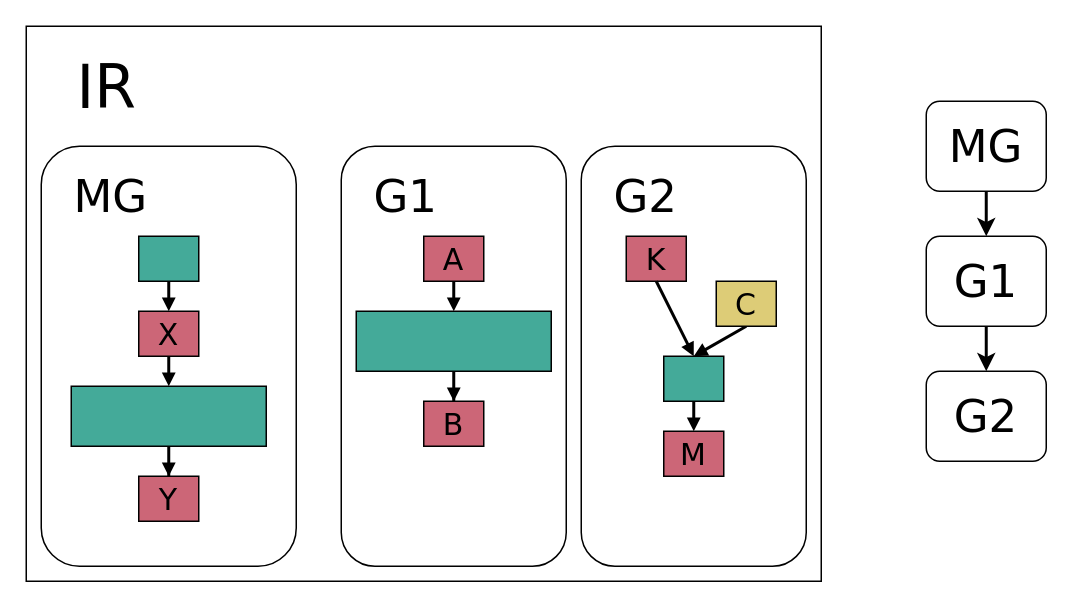
The diagram is 1073 pixels wide and 608 high, and some of its shapes have lost their labels. Each missing label, with the centre of its shape:
"Add" goes at (x=693, y=378).
"call(G1, X)" goes at (x=168, y=415).
"call(G2, A)" goes at (x=453, y=340).
"Rand" goes at (x=168, y=258).
